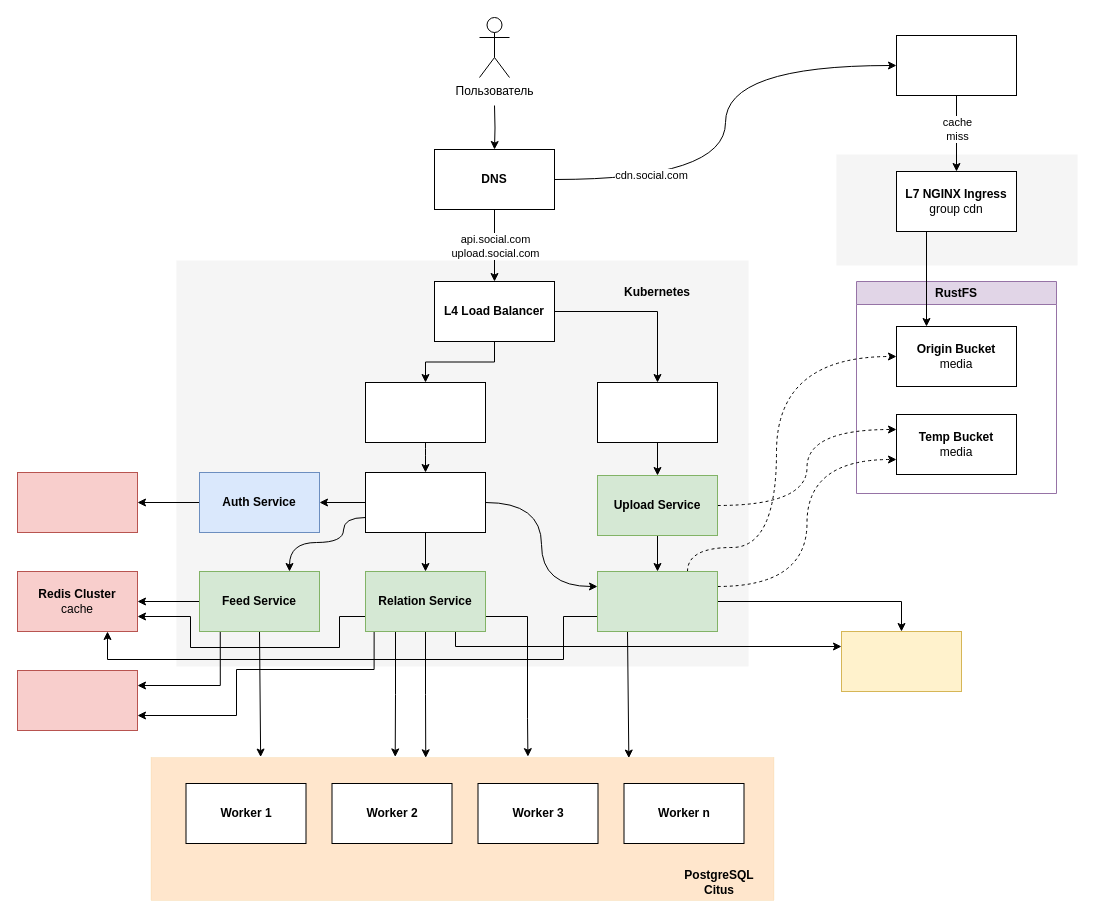
The diagram is 1095 pixels wide and 918 high, and some of its shapes have lost their labels. The box of each missing label's shape, as (x1, y1, x2, y2) in pixels:
API Gateway 3 реплики: (364, 472, 486, 532)
CDN/ Edge: (896, 34, 1016, 96)
Kafka interaction_log: (840, 630, 962, 692)
L7 NGINX Ingress group api: (364, 382, 486, 442)
L7 NGINX Ingress group upload: (596, 382, 718, 442)
Post Service Stories Service: (596, 570, 718, 632)
Redis Cluster counters: (16, 670, 138, 730)
Redis Cluster session: (16, 472, 138, 532)
